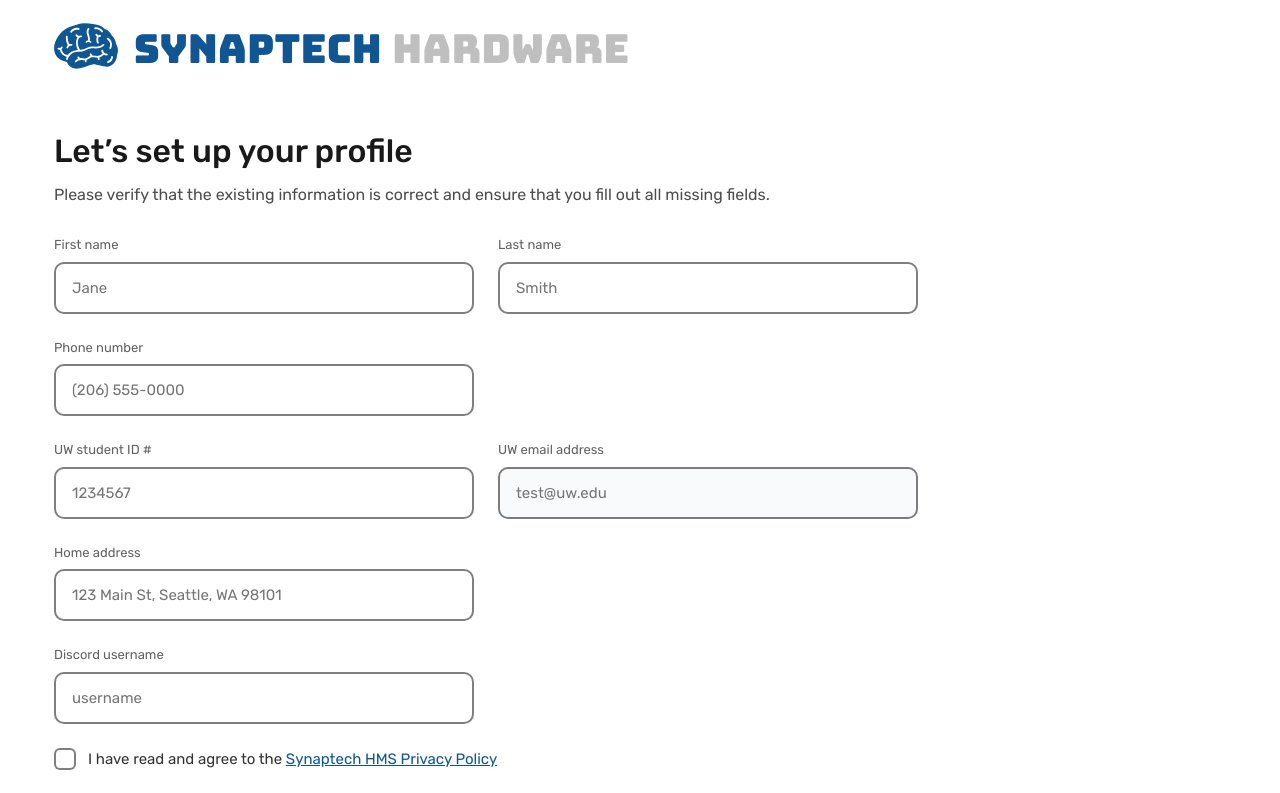
Scenario: ProfileSetupPage — form validation › shows a student ID error for non-numeric input
Type "abc123" into the field labelled "UW student ID #" at (264, 492), box x1=54 y1=466 x2=474 y2=518
(page scrolled)
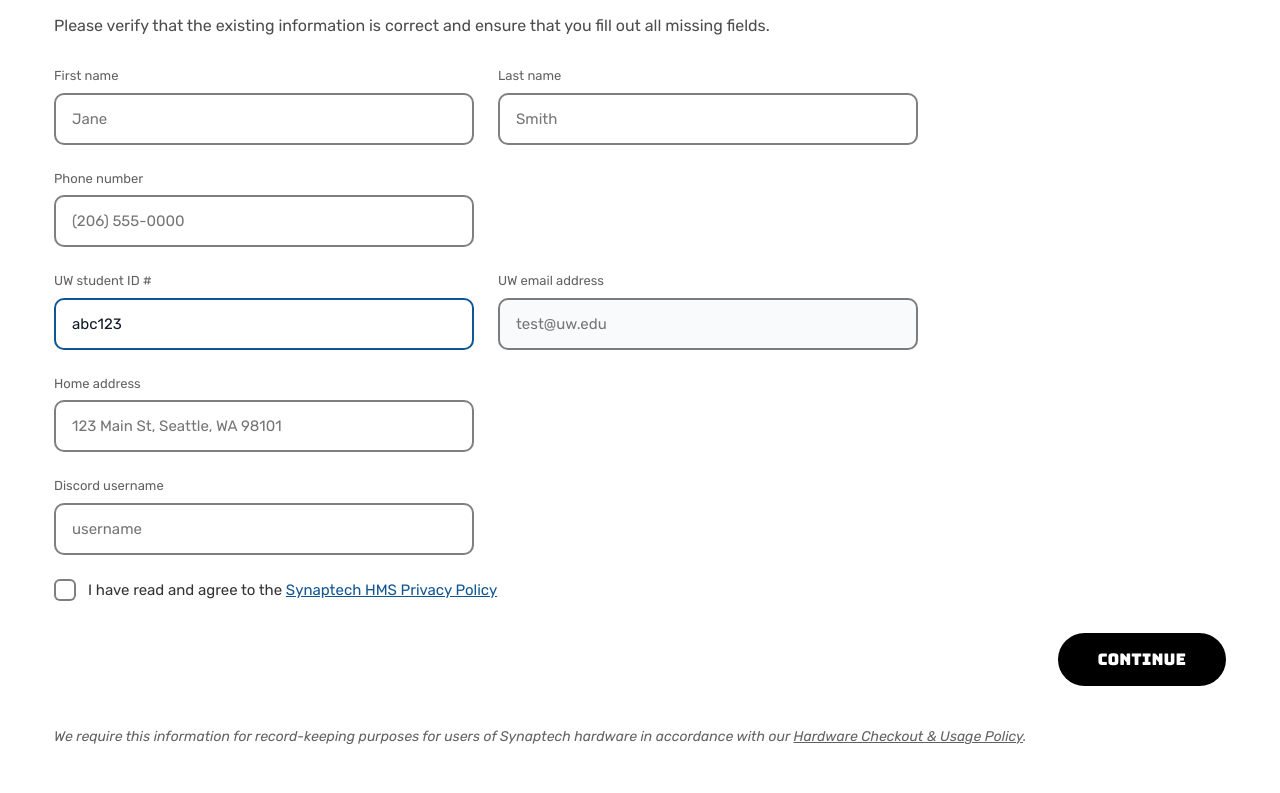
Click the button "Continue" at (1142, 660), box x1=1058 y1=633 x2=1226 y2=686
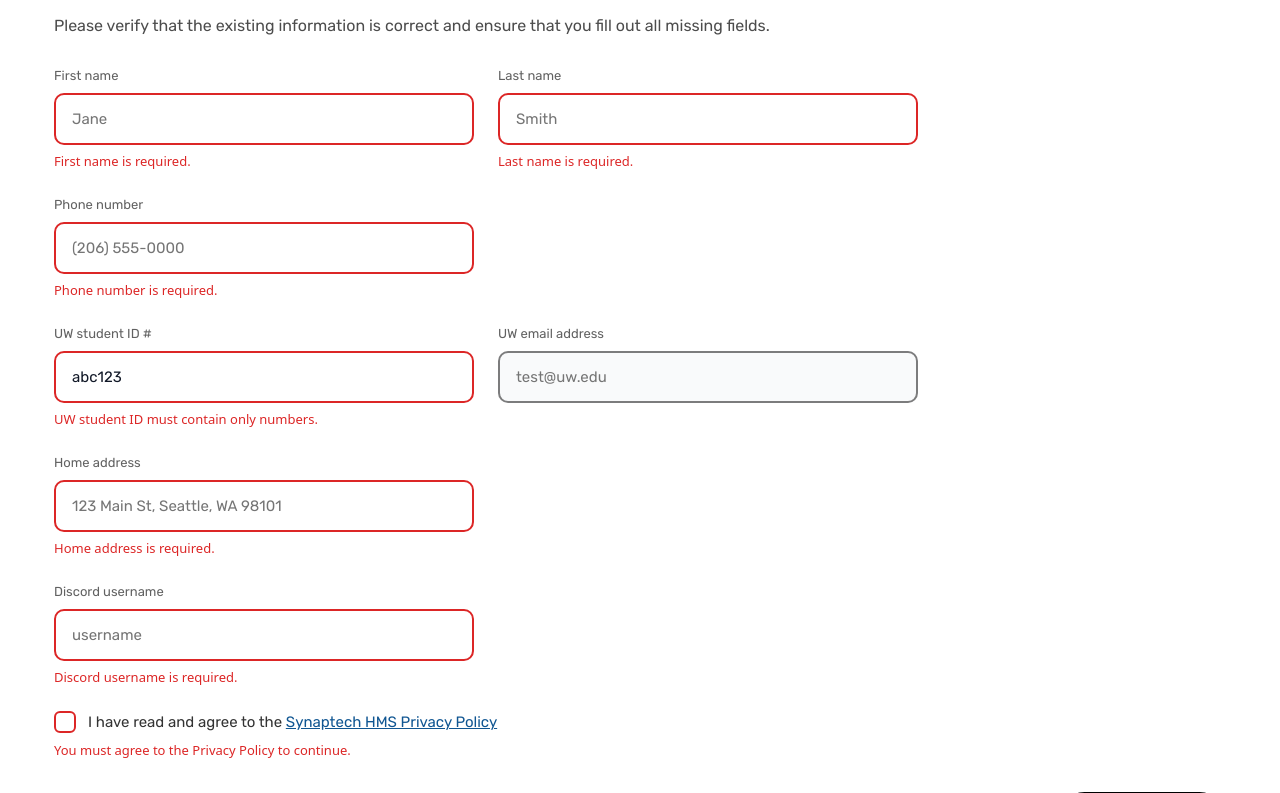
expect the text "UW student ID must contain only numbers." is shown: met, box x1=54 y1=410 x2=318 y2=428
